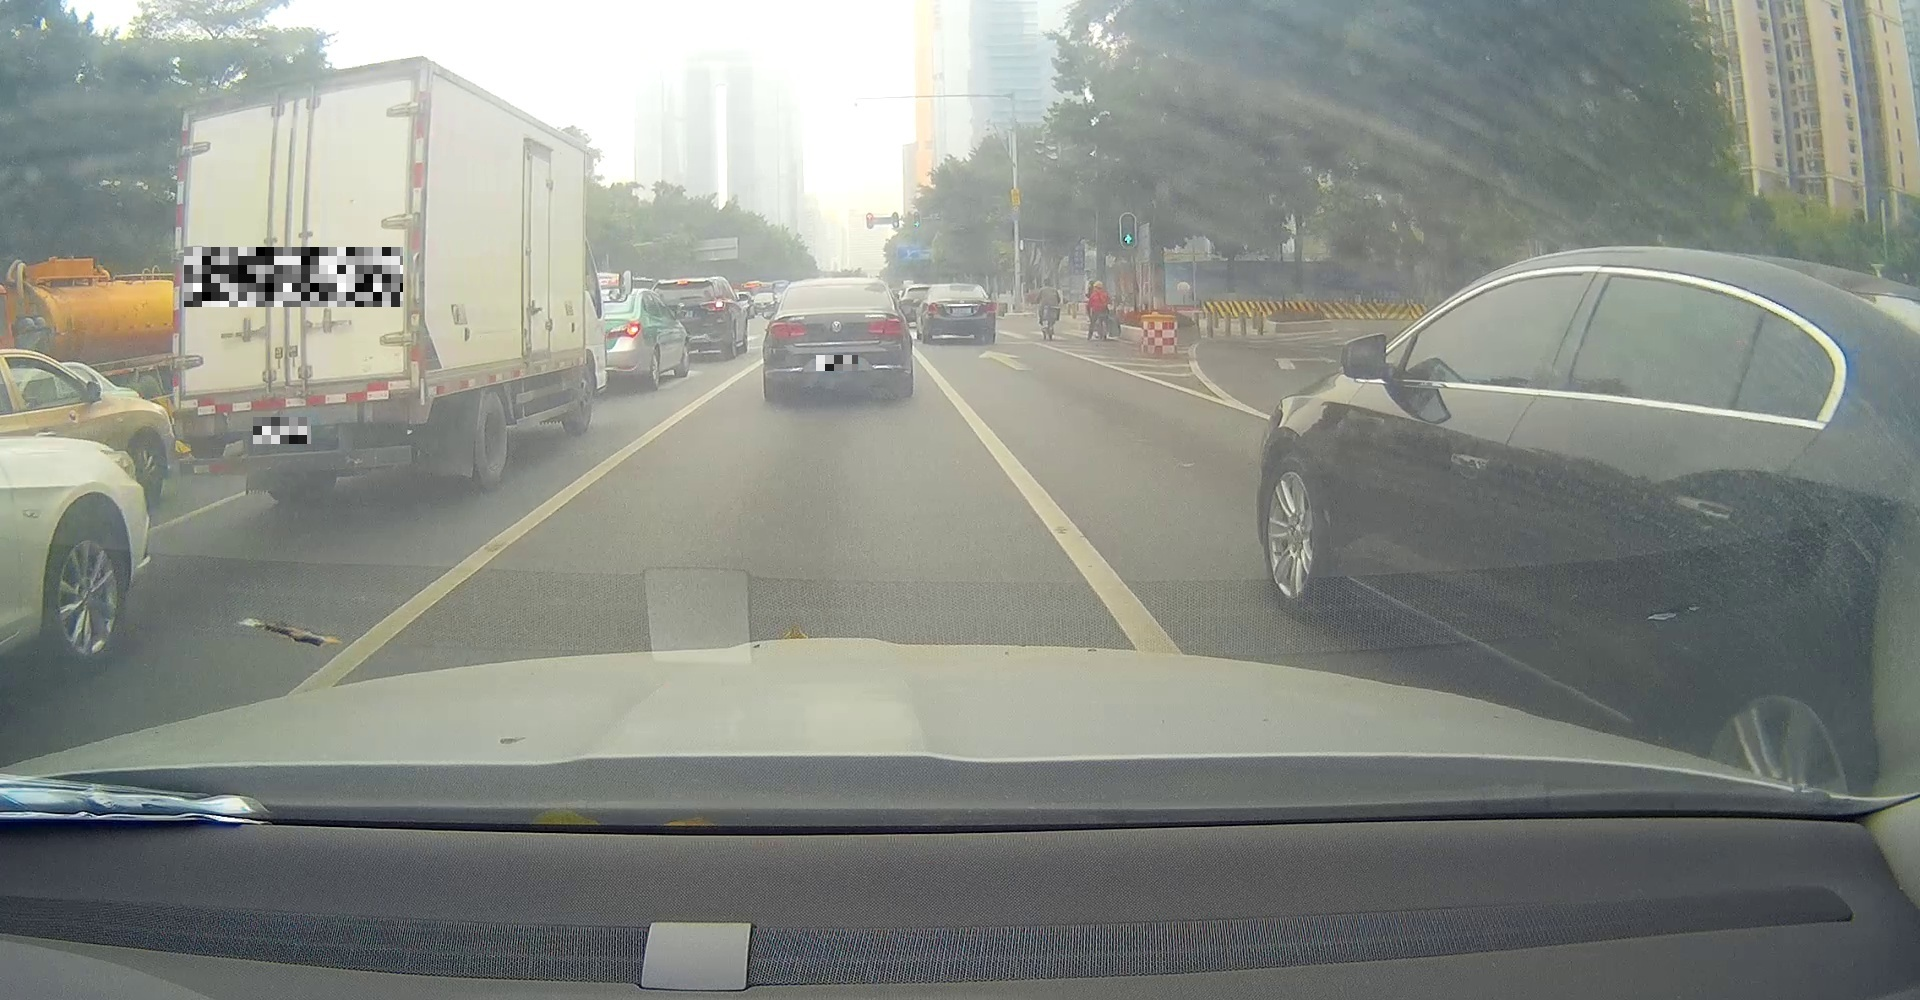L_light: (177, 412, 221, 438), (767, 321, 808, 340), (926, 302, 938, 313)
R_light: (356, 397, 408, 425), (866, 319, 905, 339), (984, 302, 996, 313)
T_light: (273, 79, 315, 96), (820, 283, 852, 291), (950, 286, 963, 288)
day-no: (170, 55, 433, 508), (761, 277, 913, 397), (924, 284, 996, 344)
plate_1: (184, 247, 403, 307)
plate_2: (253, 418, 311, 444)
plate_3: (817, 355, 858, 371)
